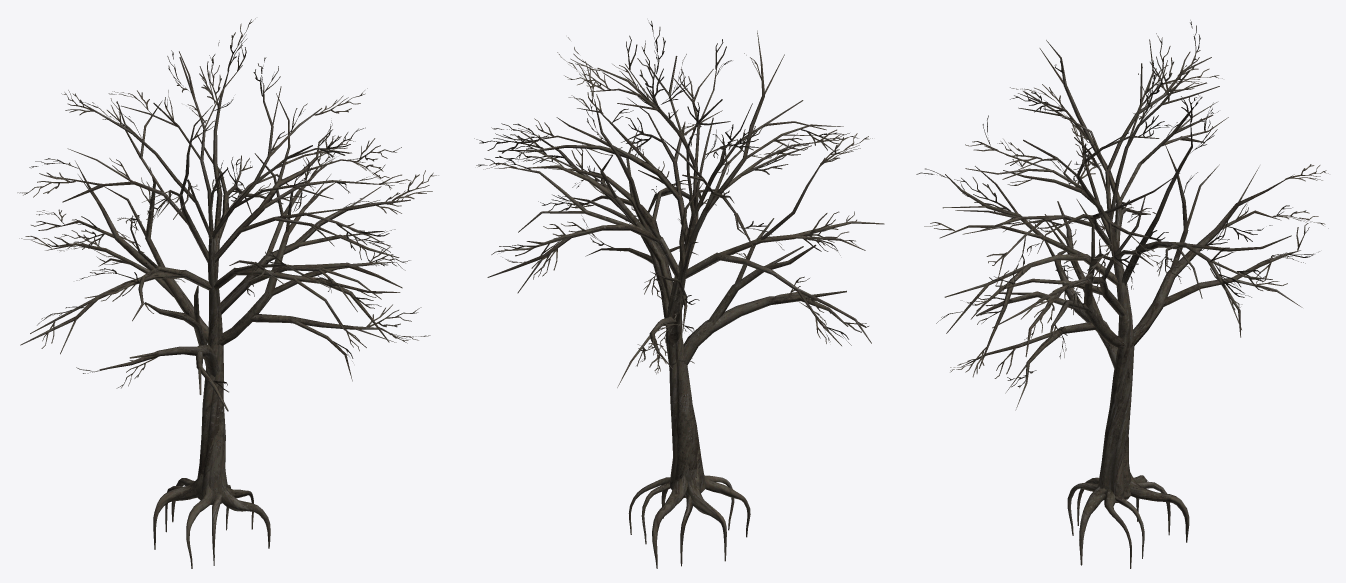
Rendered from Tree3-1-Empty.fbx.
3 views of the same model, side by side, from view 1: azimuth 30°, elevation 25°; view 2: azimuth 150°, elevation 25°; view 3: azimuth 270°, elevation 25° (orthographic). The views are drawn at different scales.
Parts seen in each view (by area): view 1: Tree3-1-Empty_LOD0; view 2: Tree3-1-Empty_LOD0; view 3: Tree3-1-Empty_LOD0.
Part boxes in pixels (bbox=[...]): Tree3-1-Empty_LOD0: bbox=[17, 18, 438, 568]; Tree3-1-Empty_LOD0: bbox=[474, 20, 884, 568]; Tree3-1-Empty_LOD0: bbox=[916, 20, 1328, 568].
Size of what is drawn, in the model's own units: 6.14 by 5.44 by 7.26.
